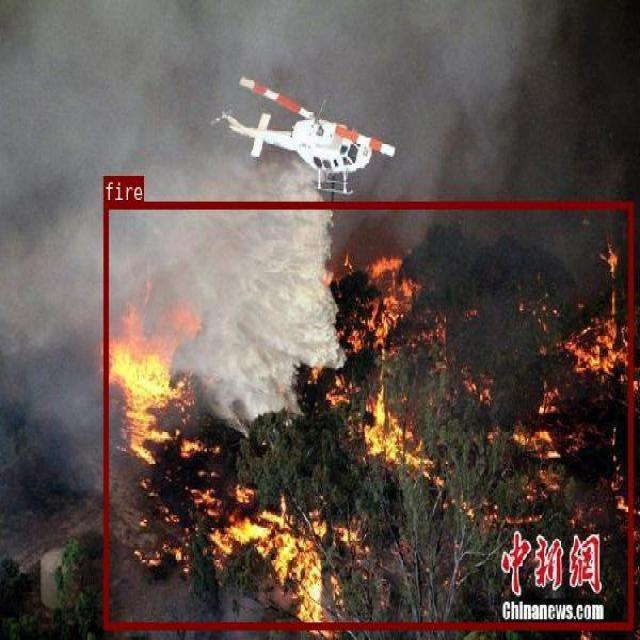fire: (104, 202, 633, 629)
